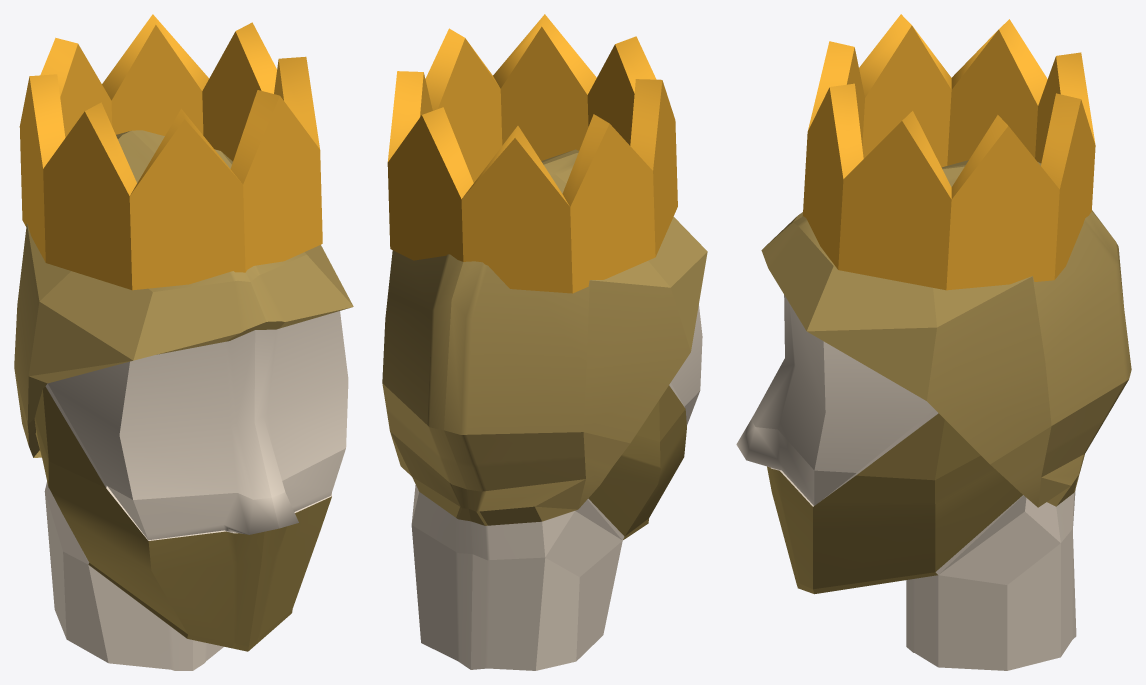
File: kingHead.fbx
3 views of the same model, side by side, from view 1: azimuth 30°, elevation 25°; view 2: azimuth 150°, elevation 25°; view 3: azimuth 270°, elevation 25° (orthographic). The views are drawn at different scales.
Parts seen in each view (by area): view 1: pCube1, pCube2; view 2: pCube1, pCube2; view 3: pCube1, pCube2.
Boxes of the visible parts, box(x1,y1,x2,y2) form: pCube1: box(14, 130, 353, 670); pCube2: box(19, 14, 322, 290); pCube1: box(382, 149, 707, 670); pCube2: box(387, 14, 677, 293); pCube1: box(736, 160, 1131, 670); pCube2: box(802, 14, 1095, 290).
Bounding box in the file's own units: 4.1 × 7.65 × 4.64.
2 materials, 2 textured.
